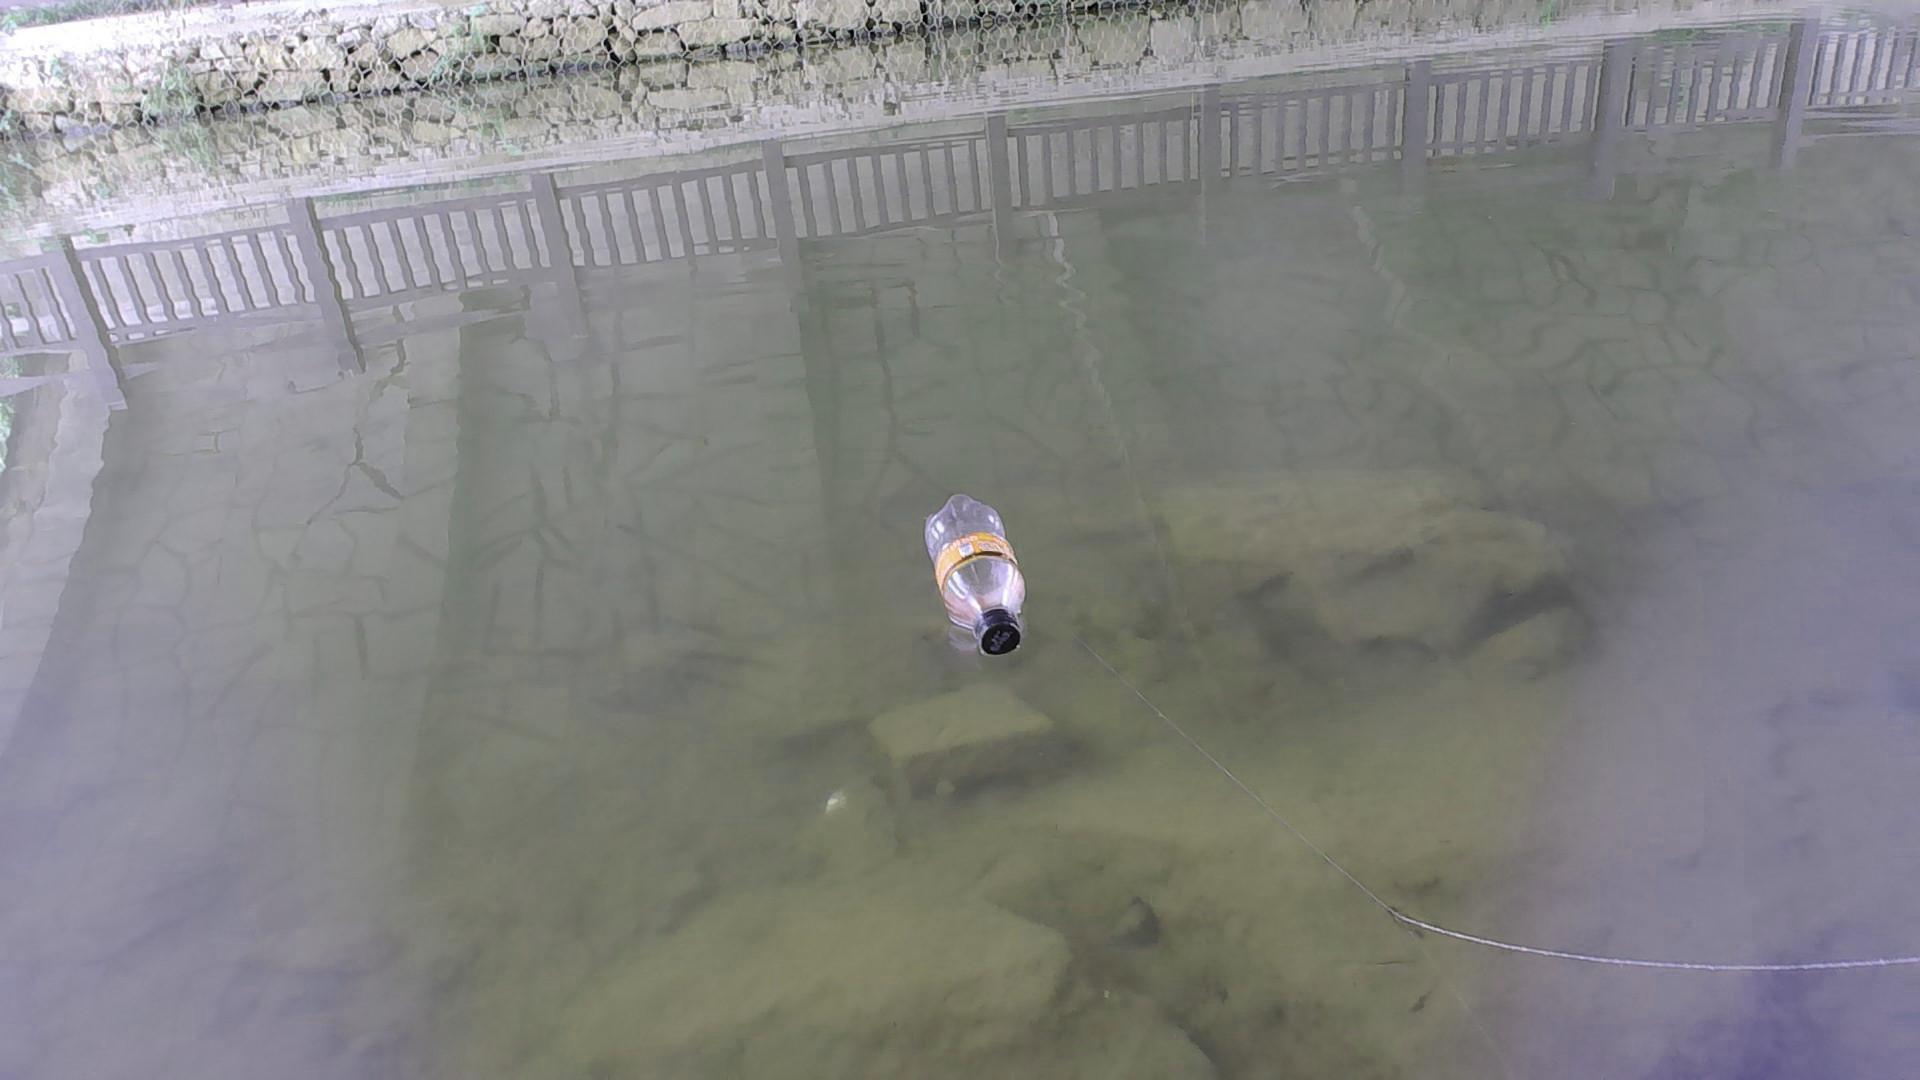Plastic: (924, 483, 1029, 661)
